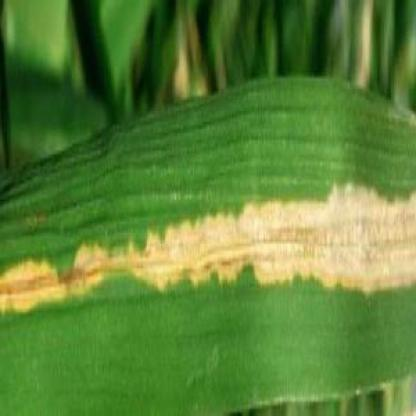Blight: (1, 177, 416, 335)
